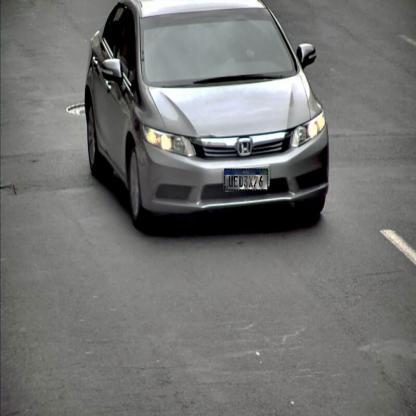PlacaM: (224, 168, 268, 191)
